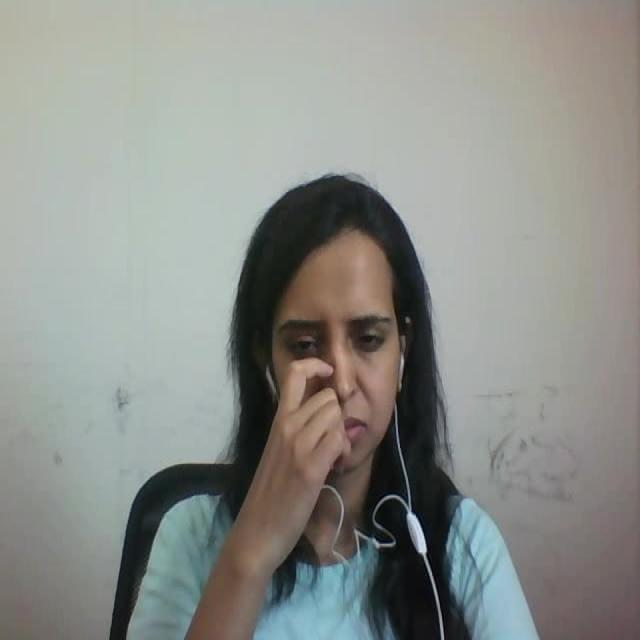Bored: (218, 164, 436, 483)
